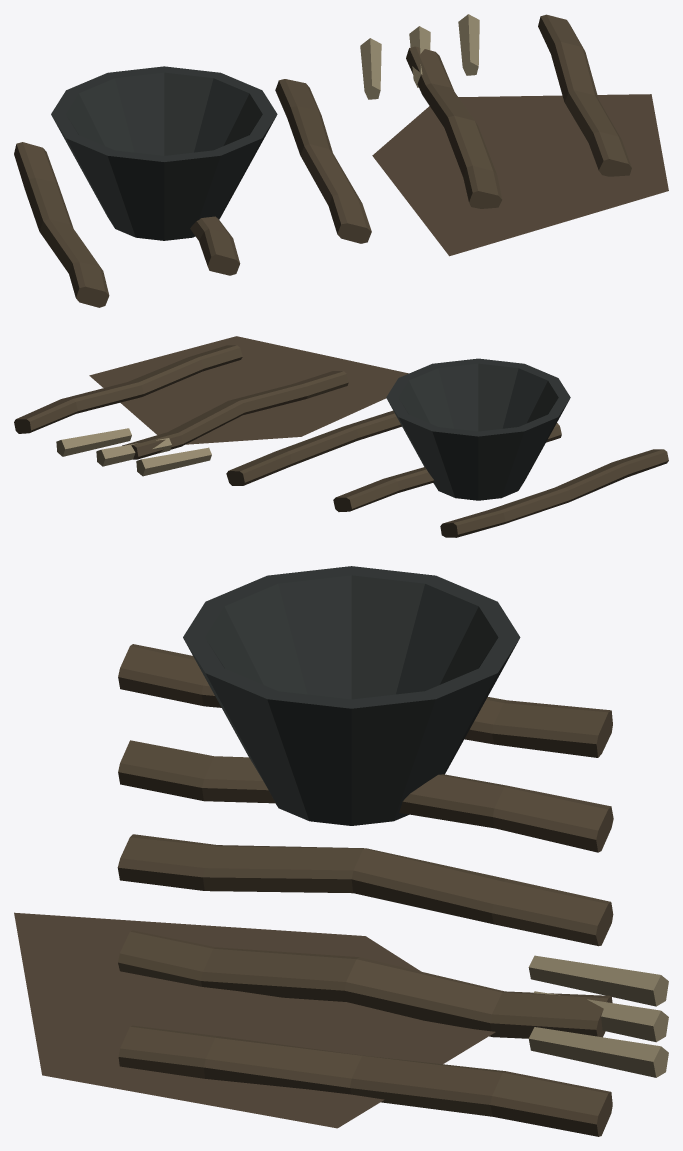
The model's file is goblin-litter.glb.
The picture shows the model from 3 angles, top to bottom: view 1: azimuth 30°, elevation 25°; view 2: azimuth 150°, elevation 25°; view 3: azimuth 270°, elevation 25°; orthographic projection. The views are drawn at different scales.
Parts seen in each view (by area): view 1: Cloth, Iron, Wood, Stone; view 2: Wood, Iron, Cloth, Stone; view 3: Wood, Iron, Cloth, Stone.
Boxes of the visible parts, left/top/right/bottom form: Cloth: left=372, top=94, right=668, bottom=256; Iron: left=51, top=66, right=277, bottom=240; Wood: left=14, top=14, right=631, bottom=307; Stone: left=360, top=14, right=479, bottom=99; Wood: left=14, top=345, right=668, bottom=537; Iron: left=386, top=358, right=570, bottom=500; Cloth: left=89, top=336, right=408, bottom=444; Stone: left=56, top=428, right=211, bottom=476; Wood: left=117, top=644, right=613, bottom=1136; Iron: left=183, top=566, right=520, bottom=825; Cloth: left=14, top=912, right=495, bottom=1128; Stone: left=528, top=955, right=668, bottom=1077.
Size of the model in its own units: 0.7933 by 0.1239 by 0.4656.
